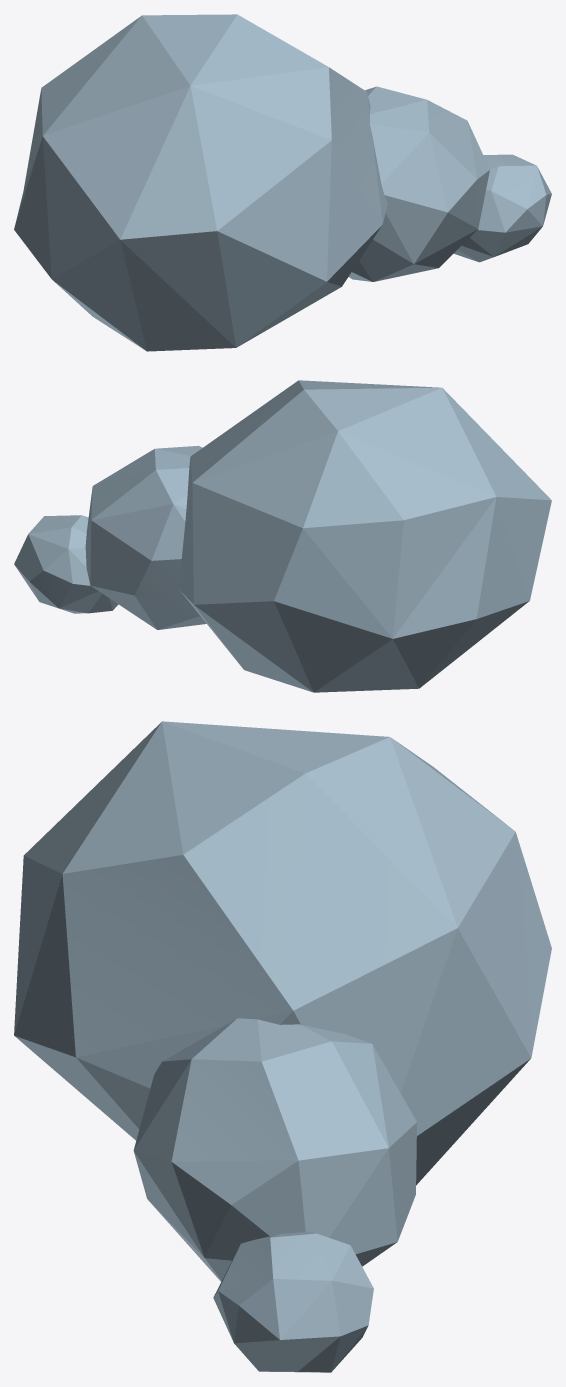
Rendered from small_cloud_34.fbx.
The picture shows the model from 3 angles, top to bottom: view 1: azimuth 30°, elevation 25°; view 2: azimuth 150°, elevation 25°; view 3: azimuth 270°, elevation 25°; orthographic projection. The views are drawn at different scales.
Parts seen in each view (by area): view 1: cloud_4; view 2: cloud_4; view 3: cloud_4.
Boxes of the visible parts, x1,y1,x2,y2 form: cloud_4: (14,14,551,351); cloud_4: (14,380,551,692); cloud_4: (14,721,551,1372).
Size of the model in its own units: 336 by 188 by 211.
